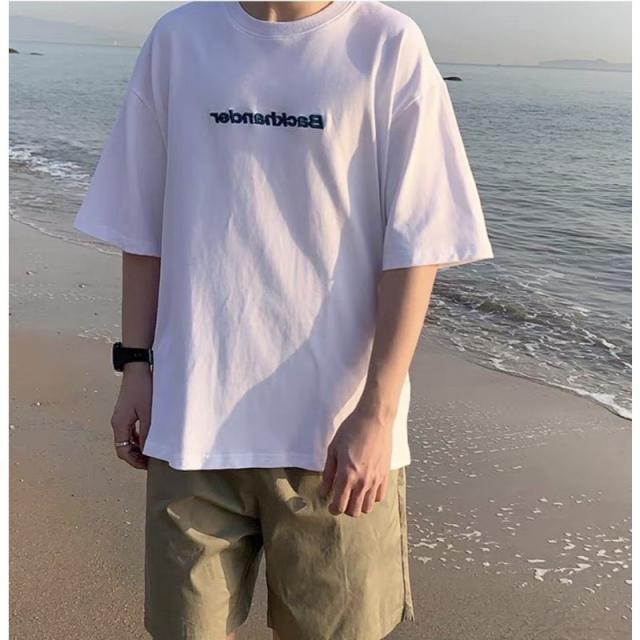Standing: (86, 0, 492, 640)
